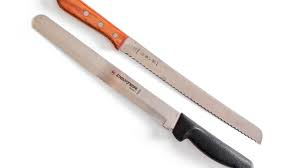breadknife: (30, 13, 257, 168), (53, 1, 264, 146)
